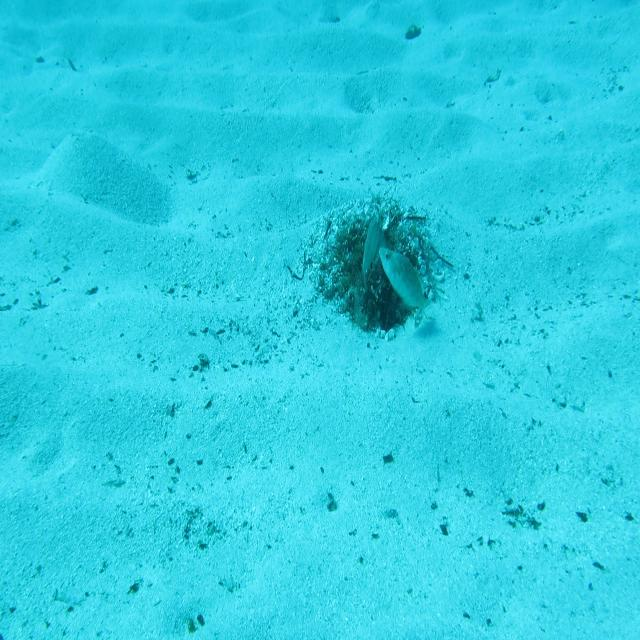GB: (378, 245, 432, 321)
female: (360, 214, 385, 279)
nest: (314, 196, 449, 351)
